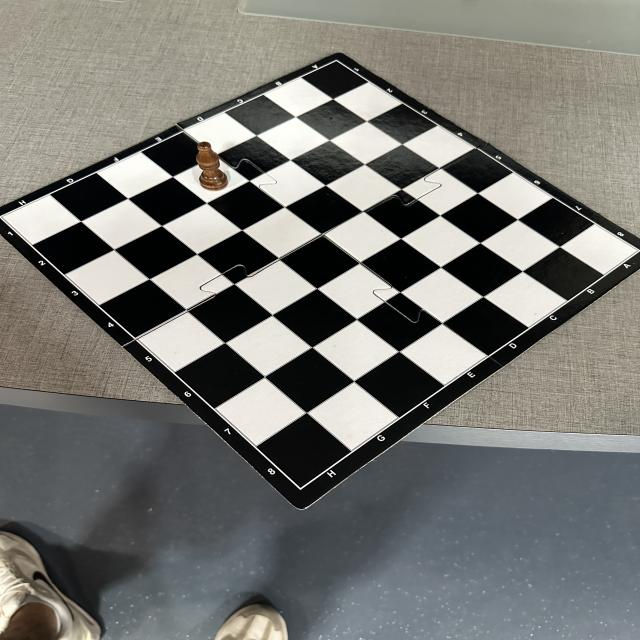Black-Bishop: (197, 142, 228, 192)
